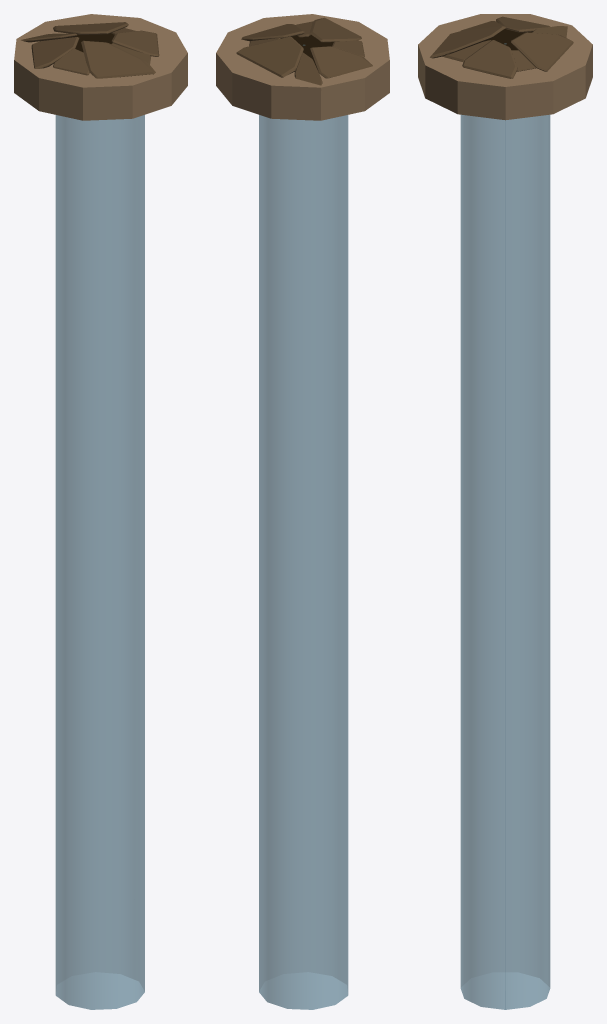
File: geyser.fbx
3 views of the same model, side by side, from view 1: azimuth 30°, elevation 25°; view 2: azimuth 150°, elevation 25°; view 3: azimuth 270°, elevation 25° (orthographic).
Visible parts, largest first — view 1: colonne_eau, geyser; view 2: colonne_eau, geyser; view 3: colonne_eau, geyser.
Boxes of the visible parts, x1,y1,x2,y2 form: colonne_eau: [55, 115, 144, 1009]; geyser: [14, 14, 187, 120]; colonne_eau: [259, 45, 348, 1009]; geyser: [216, 14, 389, 120]; colonne_eau: [460, 43, 550, 1009]; geyser: [418, 14, 592, 120].
Size of the model in its own units: 0.9556 by 5.83 by 0.9654.
